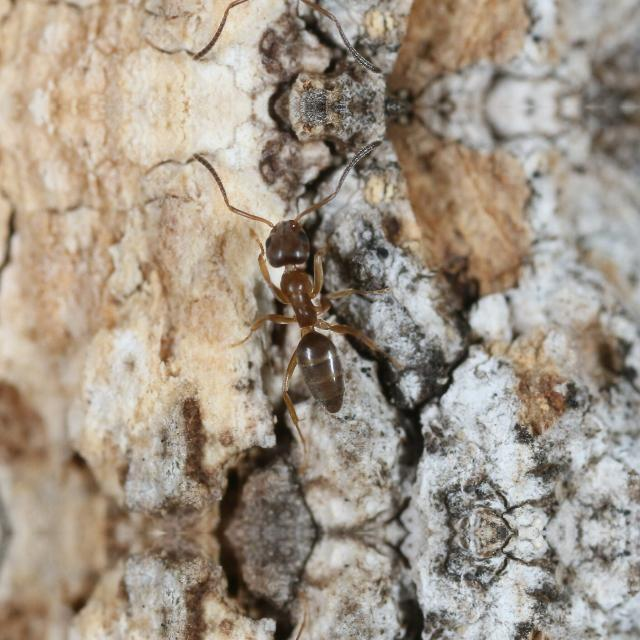Tapinoma: (203, 176, 391, 420)
